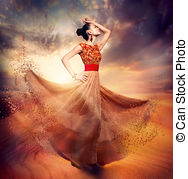face: (77, 17, 106, 42)
